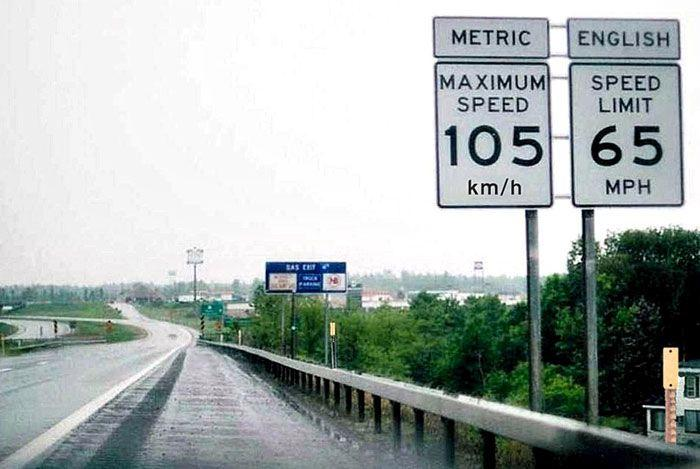speed limit sign: (434, 60, 552, 209), (569, 63, 681, 206)
